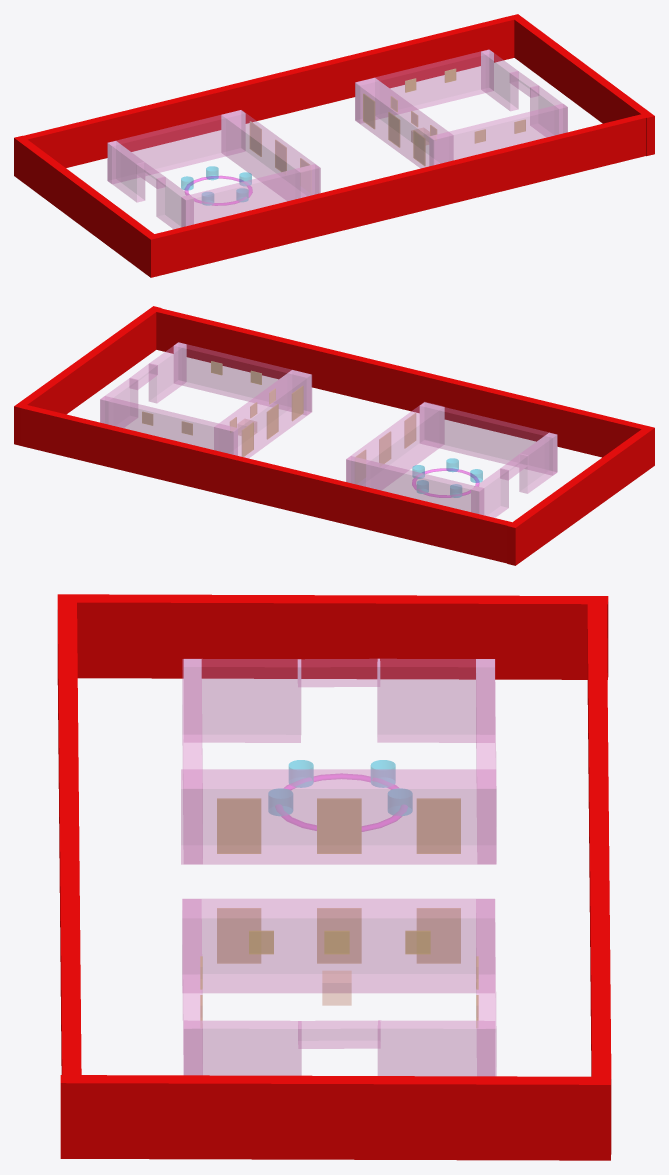
Rendered from tester.glb.
3 views of the same model, one above another, from view 1: azimuth 30°, elevation 25°; view 2: azimuth 150°, elevation 25°; view 3: azimuth 270°, elevation 25° (orthographic). The views are drawn at different scales.
Visible parts, largest first — view 1: Outside_Wall, Room2, Room1, Picture_Frames, Pillars, Vinyl_Holders; view 2: Outside_Wall, Room1, Room2, Picture_Frames, Pillars, Vinyl_Holders; view 3: Outside_Wall, Room2, Room1, Picture_Frames, Pillars, Vinyl_Holders, Stand, Circle.
Part boxes in pixels (left/top/right/bottom): Outside_Wall: left=14, top=14, right=654, bottom=277; Room2: left=107, top=110, right=320, bottom=228; Room1: left=355, top=49, right=567, bottom=168; Picture_Frames: left=250, top=94, right=425, bottom=171; Pillars: left=181, top=166, right=251, bottom=205; Vinyl_Holders: left=391, top=69, right=525, bottom=143; Outside_Wall: left=14, top=306, right=654, bottom=565; Room1: left=100, top=342, right=311, bottom=458; Room2: left=346, top=402, right=557, bottom=517; Picture_Frames: left=242, top=386, right=415, bottom=463; Pillars: left=412, top=458, right=482, bottom=497; Vinyl_Holders: left=142, top=361, right=275, bottom=435; Outside_Wall: left=57, top=594, right=611, bottom=1160; Room2: left=181, top=658, right=496, bottom=864; Room1: left=182, top=899, right=496, bottom=1076; Picture_Frames: left=217, top=798, right=460, bottom=963; Pillars: left=268, top=760, right=412, bottom=815; Vinyl_Holders: left=200, top=931, right=478, bottom=1027; Stand: left=322, top=971, right=351, bottom=1005; Circle: left=282, top=773, right=401, bottom=831.
Bounding box in the file's own units: 10.57 × 0.7691 × 5.04.
